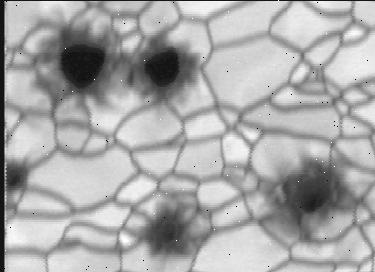good_void: (28, 6, 208, 125), (246, 142, 370, 252), (130, 197, 207, 267), (5, 158, 30, 238)
